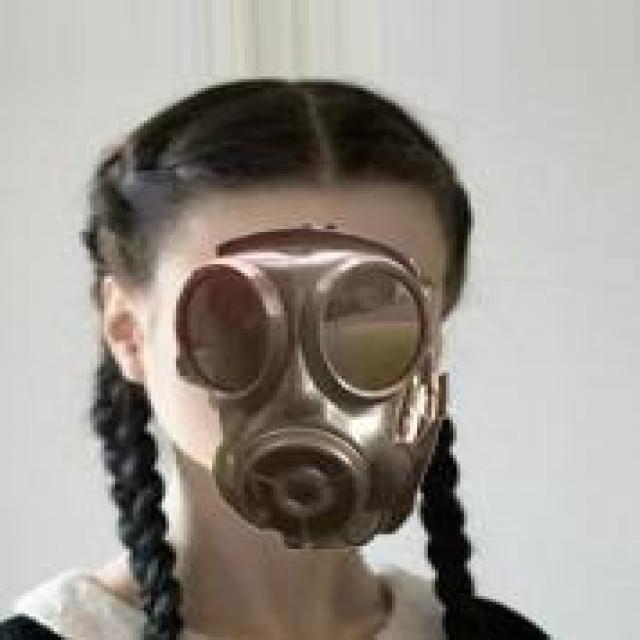mask: (39, 105, 522, 558)
